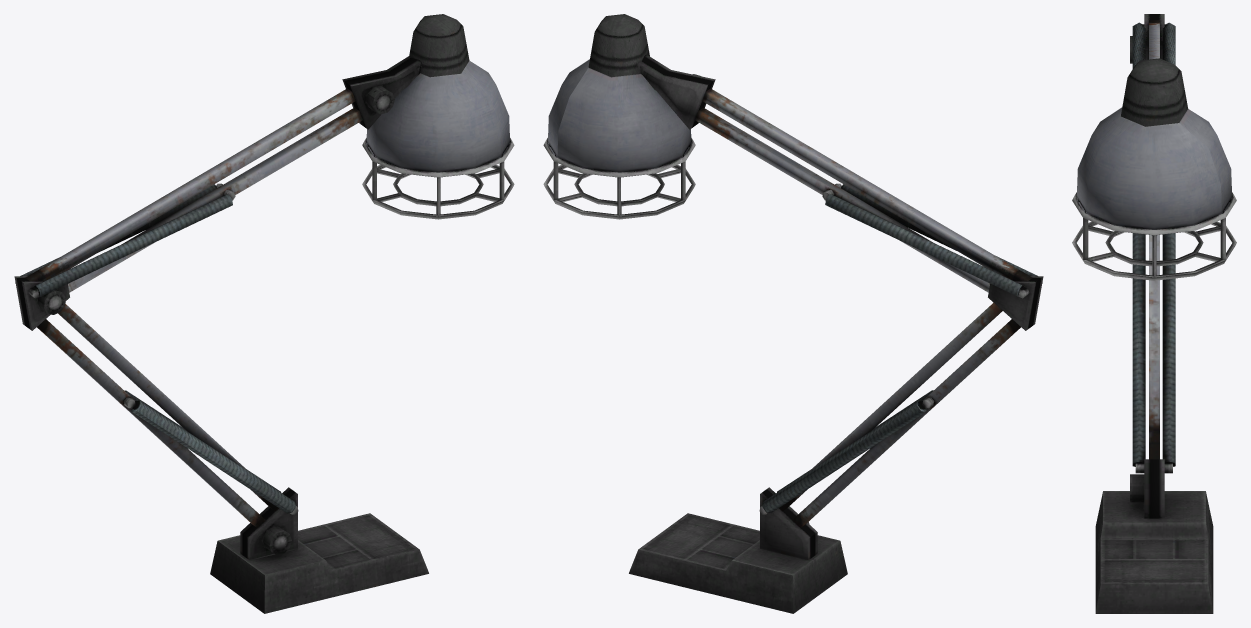
Rendered from Lamp.obj.
The picture shows the model from 3 angles, left to right: view 1: azimuth 30°, elevation 25°; view 2: azimuth 150°, elevation 25°; view 3: azimuth 270°, elevation 25°; orthographic projection. The views are drawn at different scales.
Parts seen in each view (by area): view 1: OBJ_Table_Lamp; view 2: OBJ_Table_Lamp; view 3: OBJ_Table_Lamp.
Part boxes in pixels (box(x1,y1,x2,y2)): OBJ_Table_Lamp: box(14, 14, 514, 613); OBJ_Table_Lamp: box(543, 14, 1043, 613); OBJ_Table_Lamp: box(1072, 14, 1236, 613).
Bounding box in the file's own units: 97.15 × 101 × 26.42.
1 material, 1 textured.
